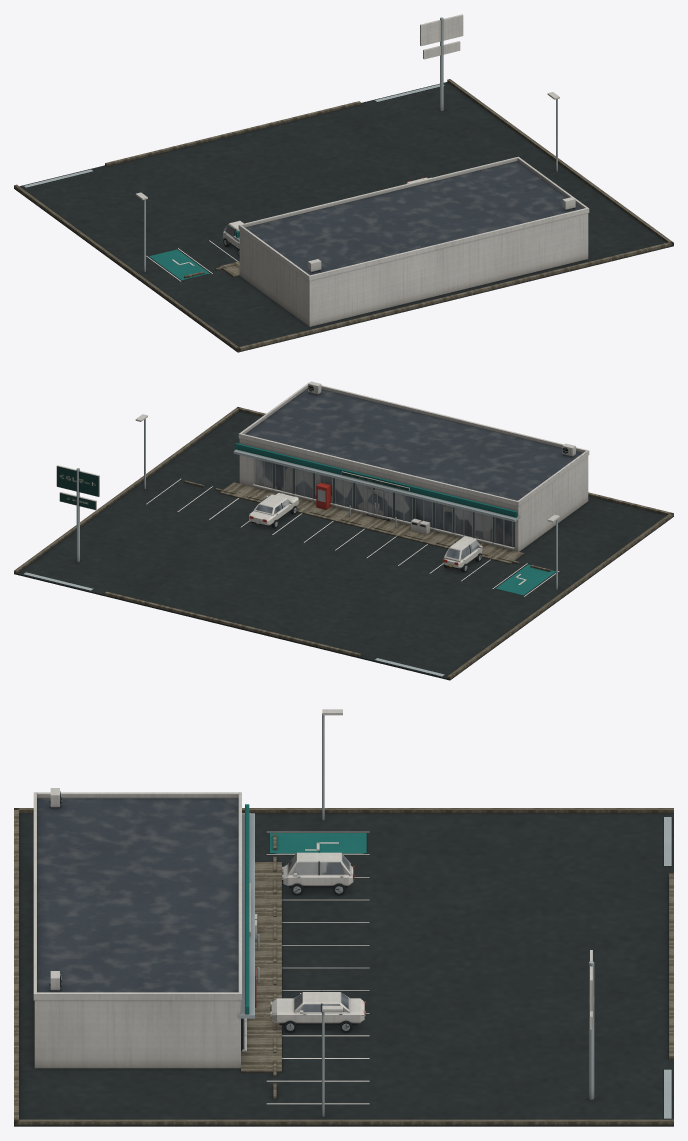
File: convenience_roadside_001.obj
The picture shows the model from 3 angles, top to bottom: view 1: azimuth 30°, elevation 25°; view 2: azimuth 150°, elevation 25°; view 3: azimuth 270°, elevation 25°; orthographic projection. The views are drawn at different scales.
Parts seen in each view (by area): view 1: convenience_roadside_001; view 2: convenience_roadside_001; view 3: convenience_roadside_001.
Part boxes in pixels (x1,y1,x2,y2): convenience_roadside_001: (14, 14, 673, 352); convenience_roadside_001: (14, 381, 673, 680); convenience_roadside_001: (14, 709, 673, 1126).
Bounding box in the file's own units: 36 × 7.4 × 32.
Materials: 1 (1 with a texture image).
